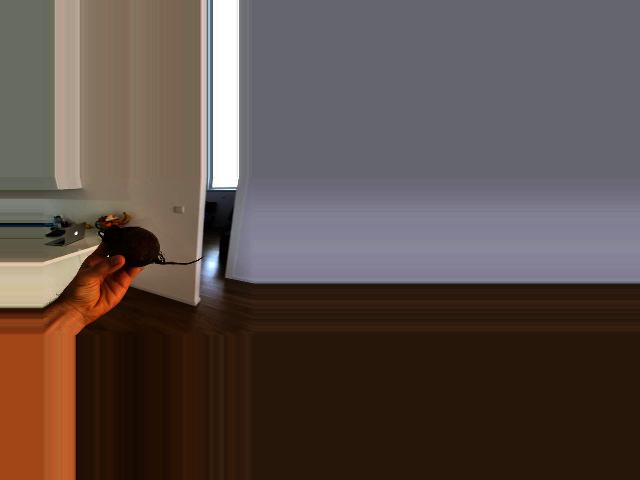beet: (99, 225, 204, 267)
